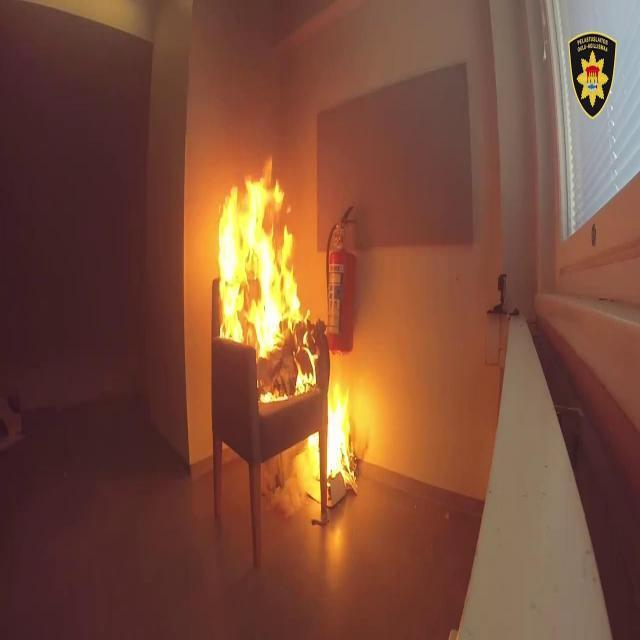Fire: (204, 179, 321, 414), (306, 424, 356, 510)
